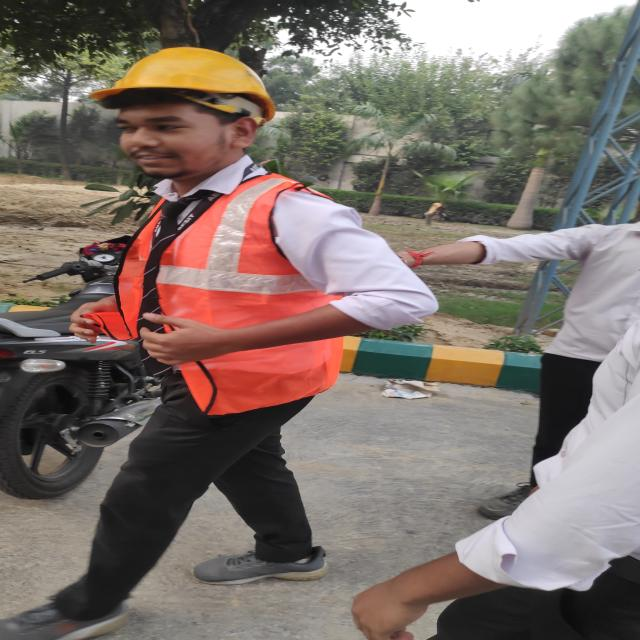safe: (49, 41, 377, 637)
